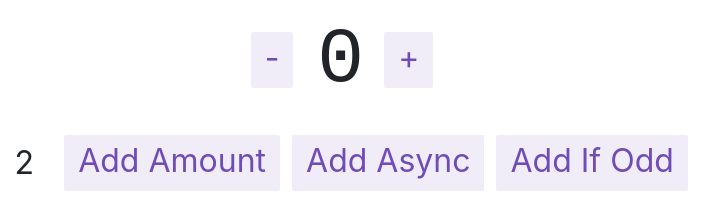
Test: Counter › increments and decrements
Step 1. Click the button named "Increment value" → [409, 60], box [384,32,433,88]
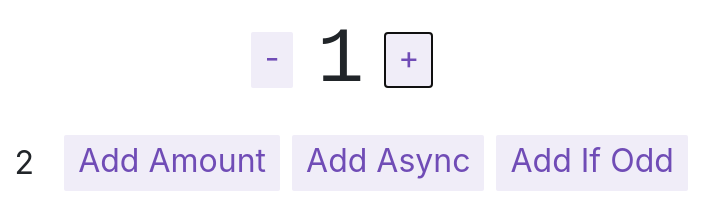
Step 2. Click the button named "Increment value" → [409, 60], box [384,32,433,88]
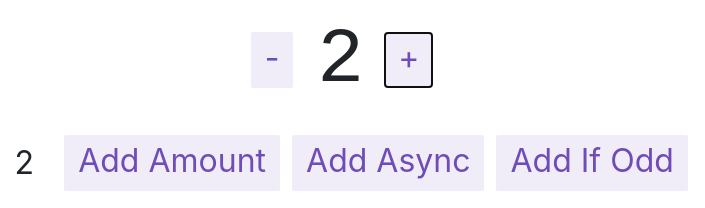
Step 3. Click the button named "Decrement value" → [272, 60], box [251,32,293,88]
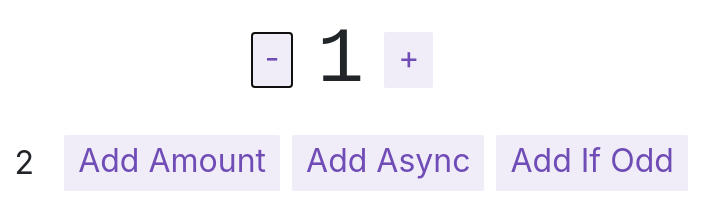
Check: the text "1" is shown, box [317,16,364,104]
